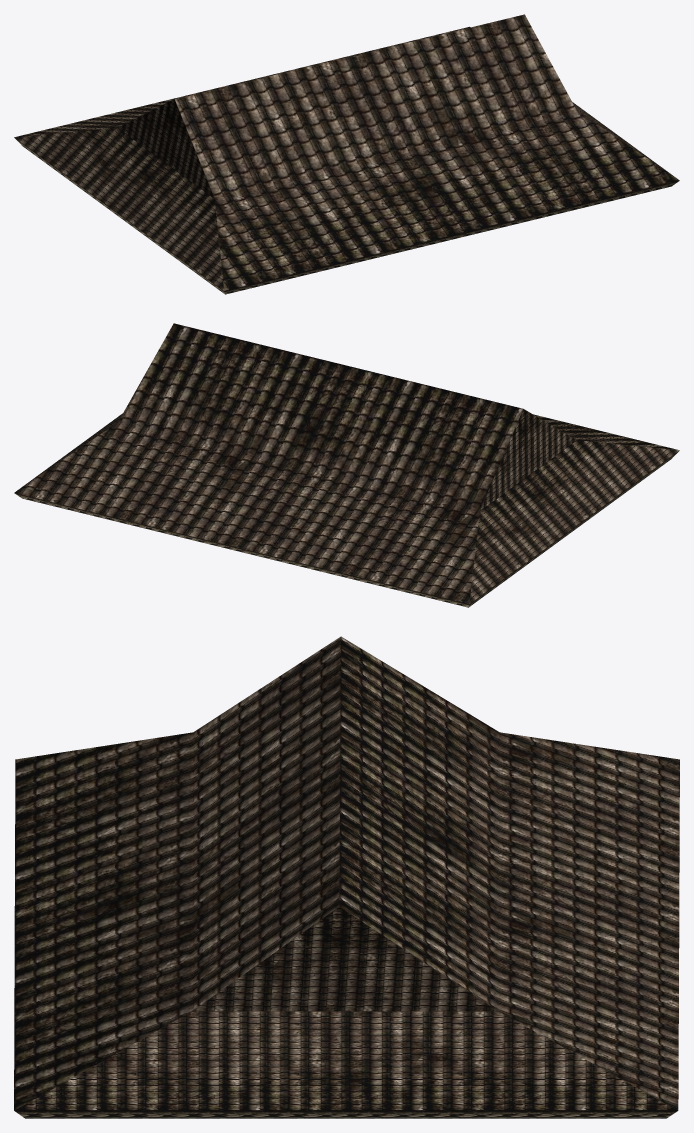
3 views of the same model, one above another, from view 1: azimuth 30°, elevation 25°; view 2: azimuth 150°, elevation 25°; view 3: azimuth 270°, elevation 25° (orthographic). The views are drawn at different scales.
Parts seen in each view (by area): view 1: Plane58; view 2: Plane58; view 3: Plane58.
Boxes of the visible parts, <box> form: Plane58: <box>14,14,679,294</box>; Plane58: <box>14,323,679,607</box>; Plane58: <box>14,636,679,1118</box>.
Bounding box in the file's own units: 167 × 41.8 × 134.
